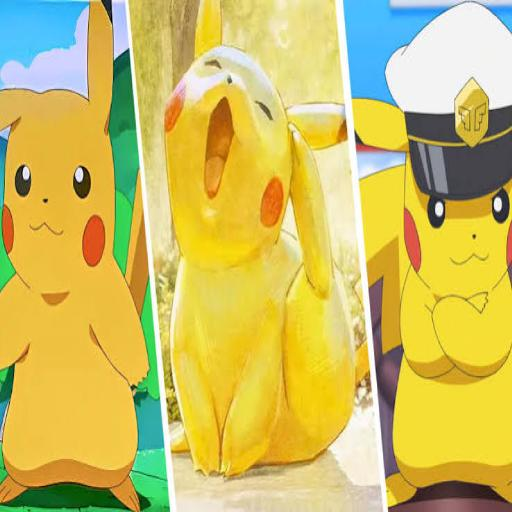Pikachu: (164, 0, 356, 480), (351, 0, 512, 508), (0, 0, 151, 512)
